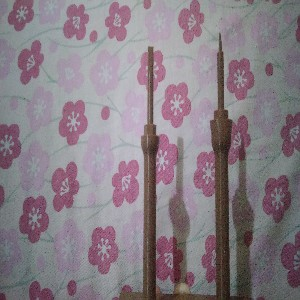obeng: (140, 46, 160, 300)
solder: (210, 30, 233, 300)
